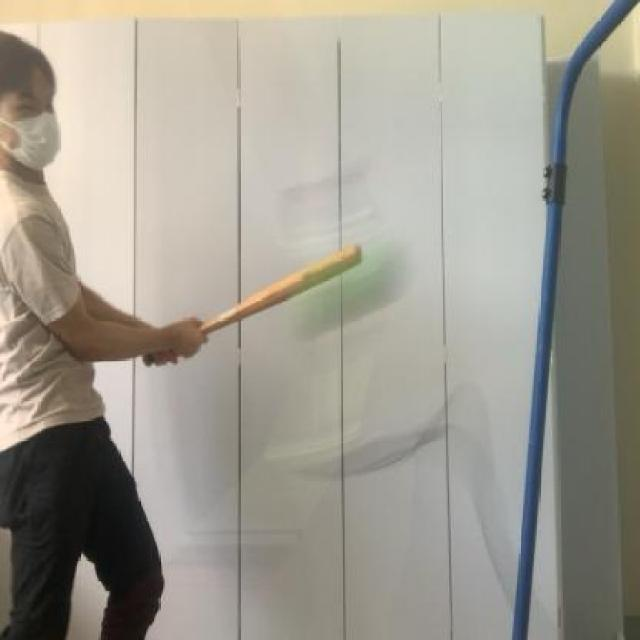baseball: (283, 239, 411, 343)
